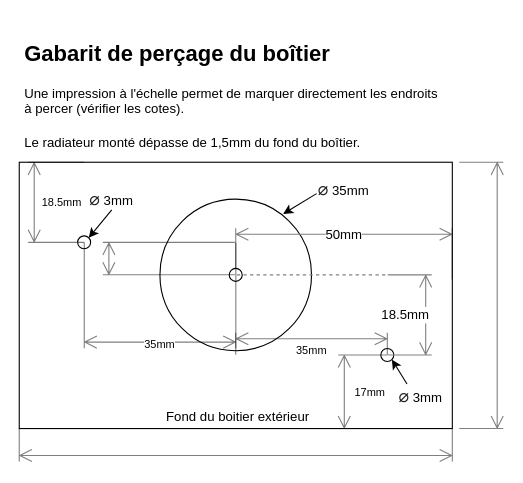
Some shapes in this 523 by 483 pixel diagram are drawn without their labels. The box of each missing label's shape, as (x1, y1, x2, y2) in pixels:
100mm: (18, 427, 452, 462)
61.5mm: (458, 161, 503, 429)
7.5mm: (102, 241, 235, 275)
